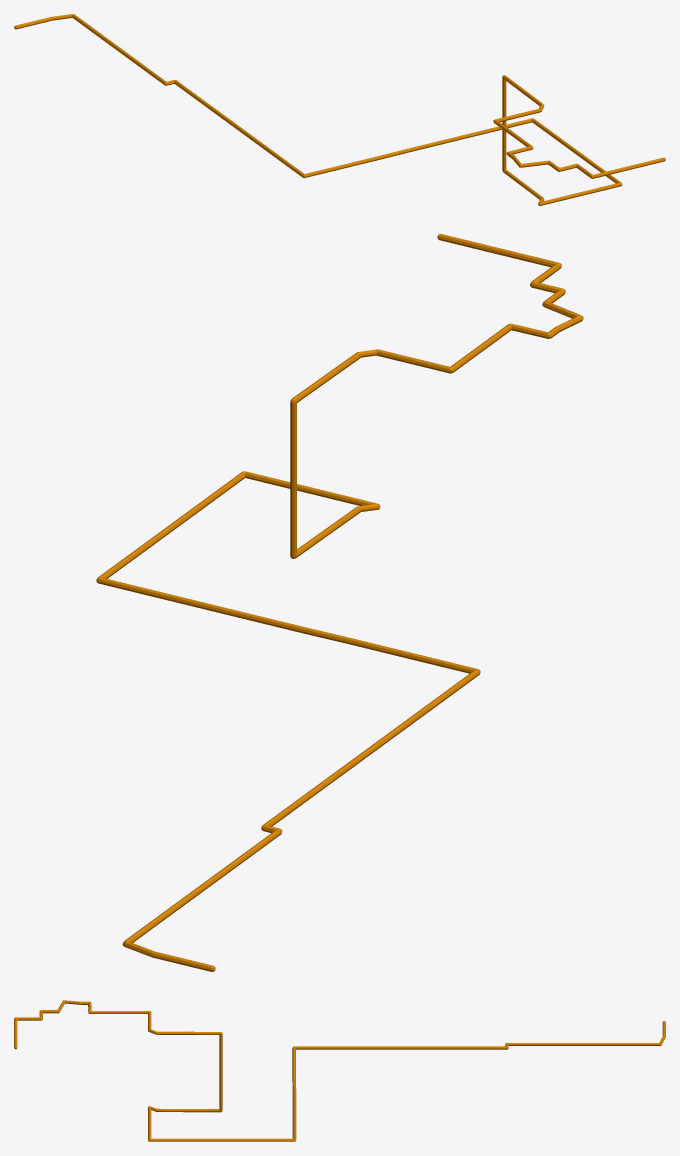
3 views of the same model, one above another, from view 1: azimuth 30°, elevation 25°; view 2: azimuth 150°, elevation 25°; view 3: azimuth 270°, elevation 25° (orthographic). The views are drawn at different scales.
Bounding box in the file's own units: 1656 × 520 × 3827.
